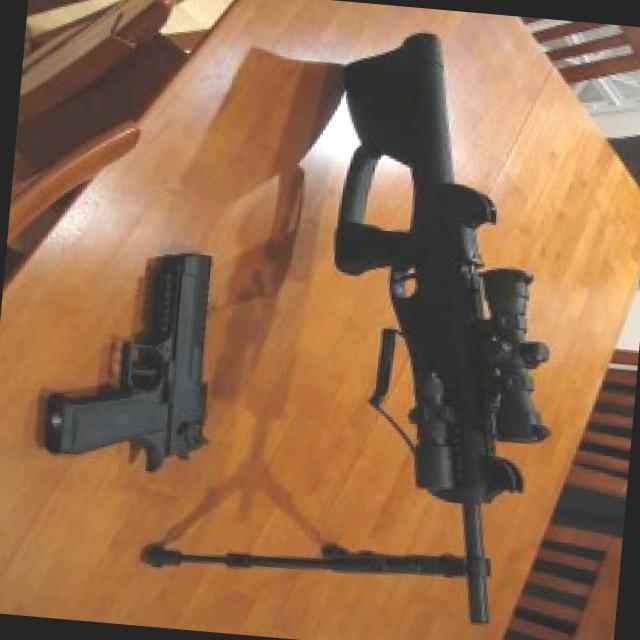handgun: (27, 212, 240, 500)
long weapon: (258, 23, 588, 639)
